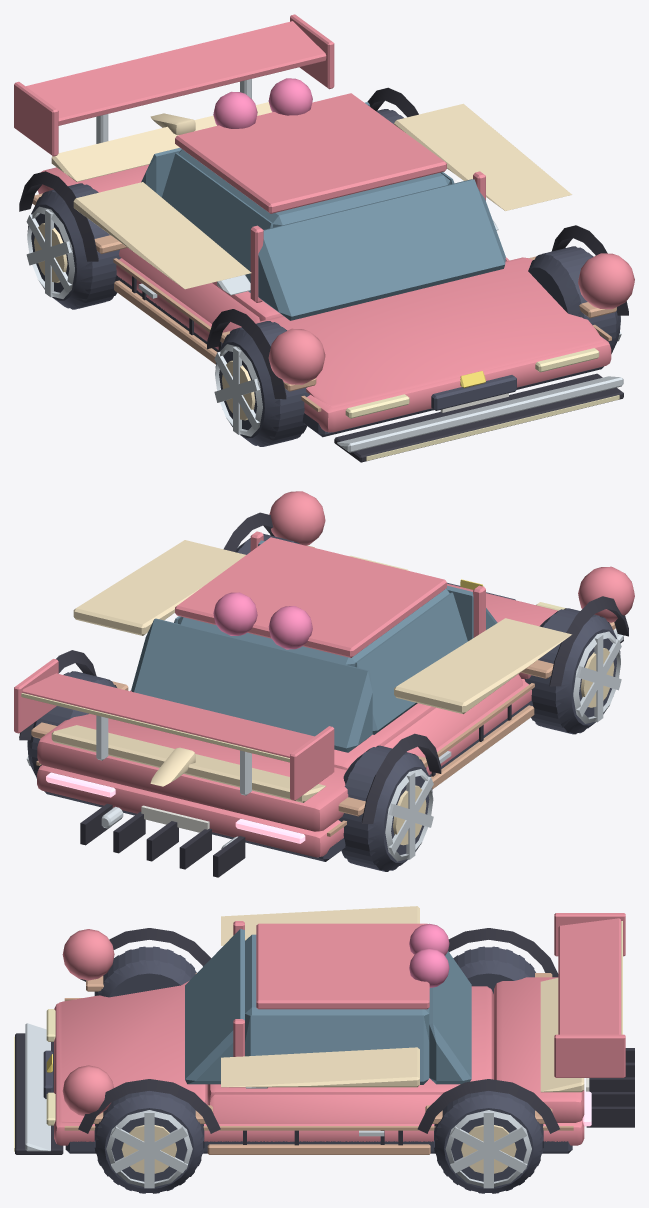
File: starship_swan.fbx
3 renders of one model, top to bottom at view 1: azimuth 30°, elevation 25°; view 2: azimuth 150°, elevation 25°; view 3: azimuth 270°, elevation 25°, orthographic. The views are drawn at different scales.
Parts seen in each view (by area): view 1: Body, Glass, Accent2, Trim, Metal, Accent3, Wheel_RR, Wheel_FR, Accent, Wheel_FL, Light, Accent5 (+2 smaller); view 2: Body, Glass, Accent2, Trim, Metal, Wheel_RR, Wheel_FR, Accent, Accent5, Light, Light2, Wheel_RL (+3 smaller); view 3: Body, Glass, Accent2, Trim, Metal, Wheel_RL, Wheel_FL, Accent, Wheel_FR, Accent3, Wheel_RR, Accent5 (+3 smaller).
Part boxes in pixels (bbox=[...]): Body: bbox=[14, 14, 634, 432]; Glass: bbox=[141, 102, 505, 320]; Accent2: bbox=[51, 102, 571, 289]; Trim: bbox=[19, 87, 628, 462]; Metal: bbox=[26, 79, 621, 436]; Accent3: bbox=[217, 219, 623, 452]; Wheel_RR: bbox=[27, 183, 120, 309]; Wheel_FR: bbox=[215, 321, 310, 446]; Accent: bbox=[32, 193, 616, 411]; Wheel_FL: bbox=[528, 246, 620, 353]; Light: bbox=[345, 348, 619, 460]; Accent5: bbox=[213, 78, 312, 128]; Body: bbox=[14, 491, 634, 857]; Glass: bbox=[131, 540, 497, 752]; Accent2: bbox=[51, 540, 571, 802]; Trim: bbox=[19, 512, 628, 877]; Metal: bbox=[26, 546, 621, 861]; Wheel_RR: bbox=[338, 745, 432, 871]; Wheel_FR: bbox=[524, 608, 620, 734]; Accent: bbox=[31, 545, 615, 836]; Accent5: bbox=[213, 592, 312, 649]; Light: bbox=[21, 555, 565, 762]; Light2: bbox=[46, 772, 305, 843]; Wheel_RL: bbox=[27, 671, 116, 778]; Body: bbox=[54, 913, 625, 1145]; Glass: bbox=[185, 929, 471, 1084]; Accent2: bbox=[221, 906, 584, 1092]; Trim: bbox=[15, 928, 634, 1154]; Metal: bbox=[106, 1110, 531, 1188]; Wheel_RL: bbox=[434, 1091, 543, 1193]; Wheel_FL: bbox=[94, 1091, 204, 1193]; Accent: bbox=[64, 973, 573, 1154]; Wheel_FR: bbox=[94, 946, 196, 997]; Accent3: bbox=[25, 1023, 267, 1151]; Wheel_RR: bbox=[453, 946, 535, 993]; Accent5: bbox=[409, 923, 449, 987].
Bounding box in the file's own units: 3.55 × 1.74 × 5.39.
